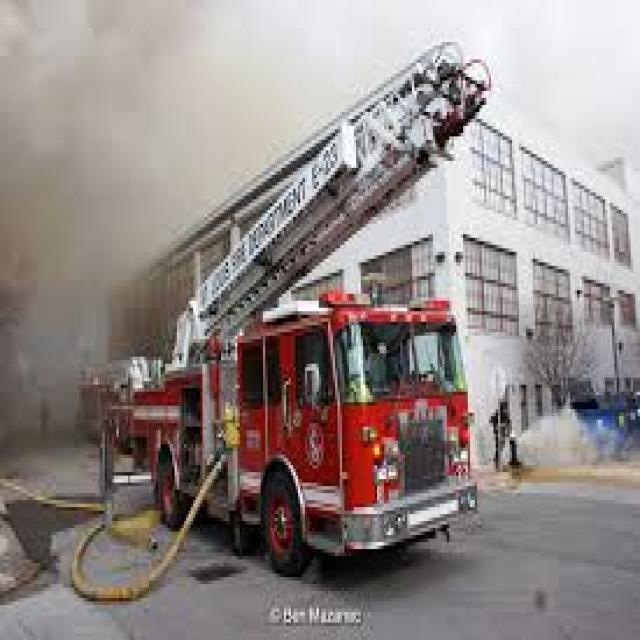Smoke: (0, 0, 226, 472)
